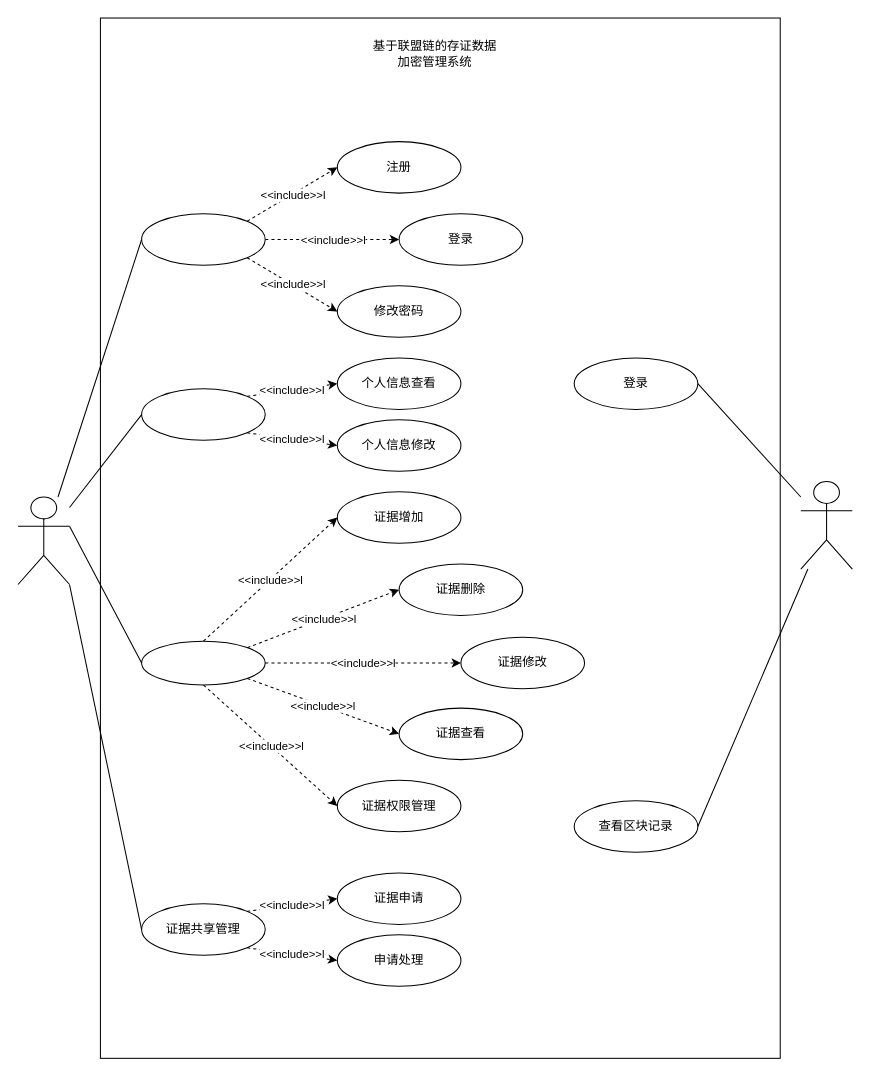
Some shapes in this 870 by 1076 pixel diagram are drawn without their labels. Each missing label, with the centre of its shape:
个人信息管理: (x=203, y=414)
用户: (x=43, y=540)
登录管理: (x=203, y=239)
管理员: (x=826, y=524)
证据管理: (x=203, y=662)
